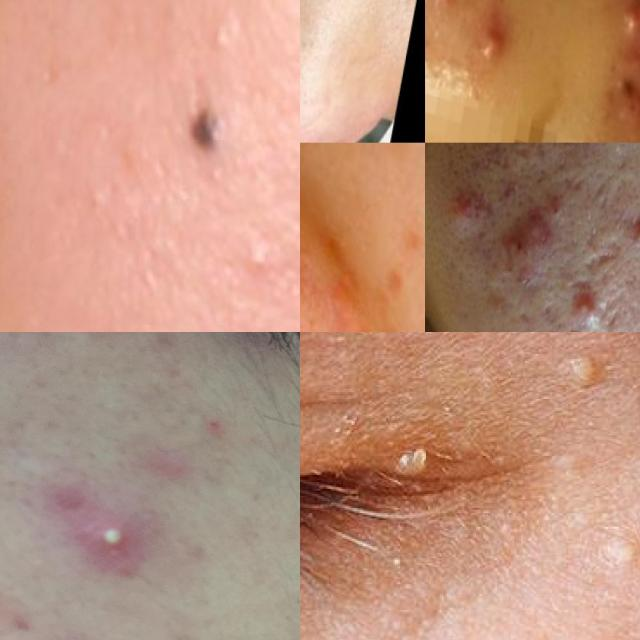comedone: (182, 102, 229, 166)
flat_wart: (516, 332, 640, 433)
papule: (442, 183, 492, 233), (494, 232, 536, 274), (519, 204, 557, 249), (619, 198, 640, 271)
pustule: (461, 7, 515, 75), (566, 281, 604, 332), (609, 0, 640, 45), (425, 0, 460, 26)
